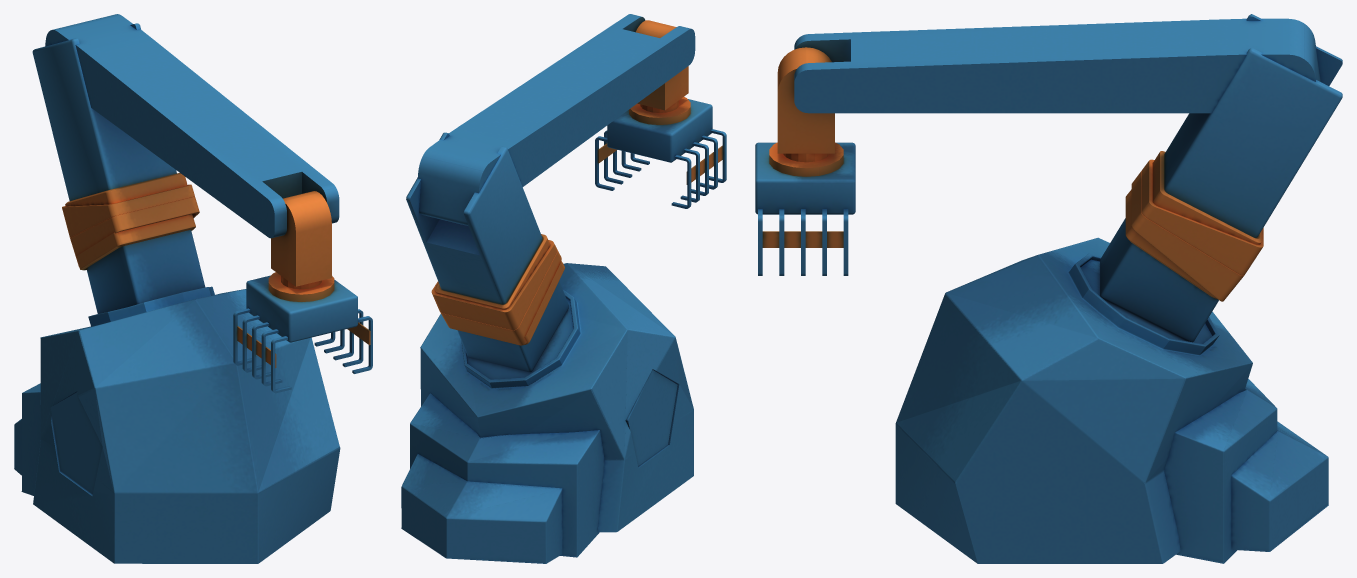
File: machine.serva.153.obj
3 renders of one model, left to right at view 1: azimuth 30°, elevation 25°; view 2: azimuth 150°, elevation 25°; view 3: azimuth 270°, elevation 25°, orthographic. The views are drawn at different scales.
Visible parts, largest first — view 1: maduiji; view 2: maduiji; view 3: maduiji.
Part boxes in pixels (x1,y1,x2,y2): maduiji: (14, 14, 372, 563); maduiji: (401, 14, 726, 563); maduiji: (755, 14, 1342, 563).
Bounding box in the file's own units: 113 × 213 × 233.
